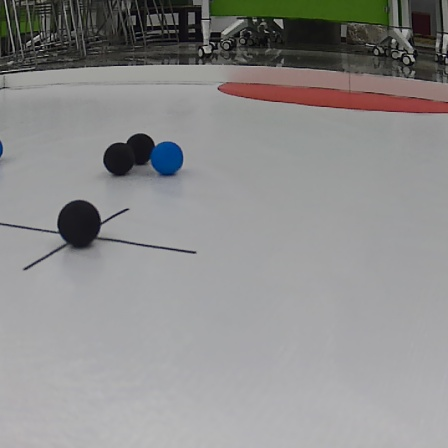black: (54, 194, 102, 250), (98, 140, 134, 176), (127, 131, 156, 165)
blue: (148, 141, 188, 174)
red_base: (210, 75, 448, 117)
